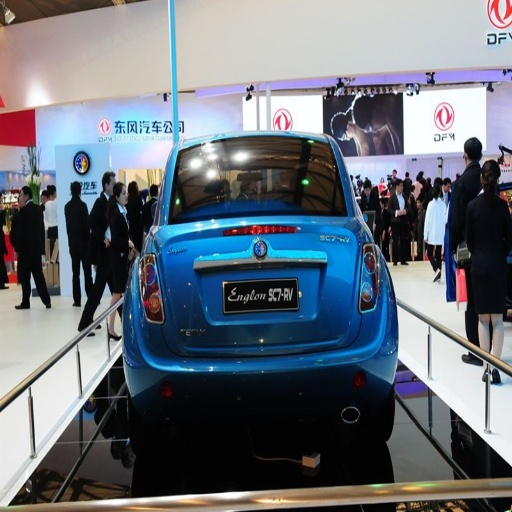back_bumper: (123, 293, 393, 487)
tailgate: (150, 216, 356, 352)
